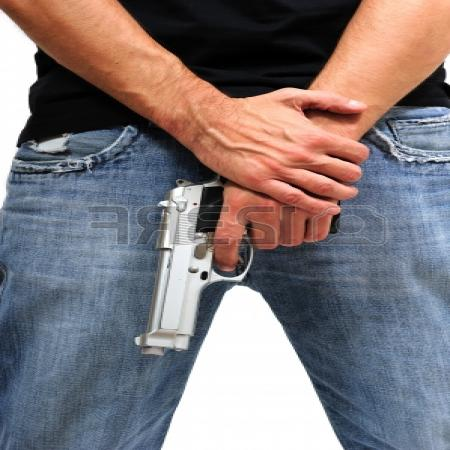Pistol: (136, 155, 346, 356)
